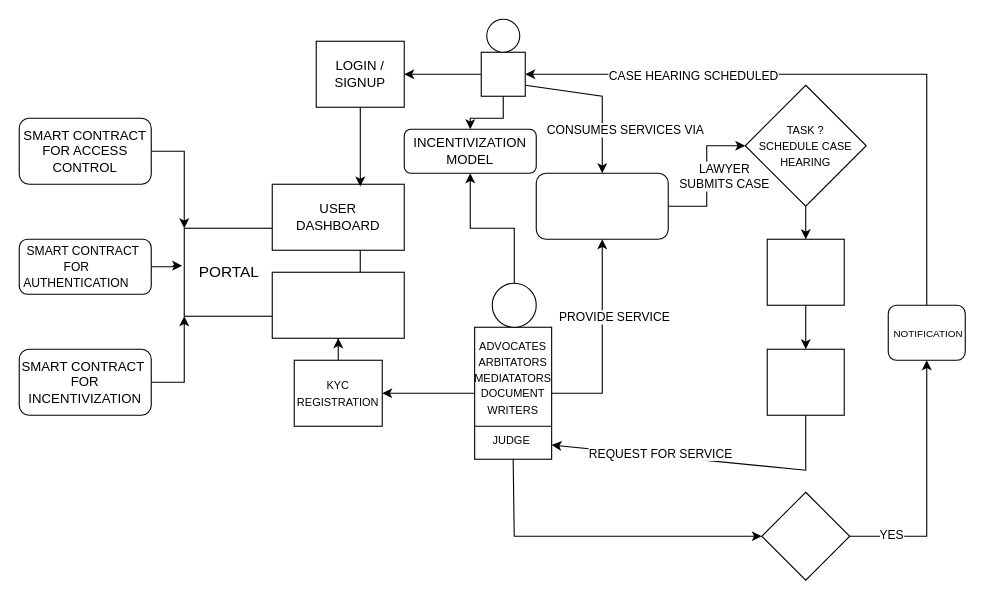
Some shapes in this 985 by 600 pixel diagram are drawn without their labels. Here are the shapes that lost their labels. From the top down, the centre of each, then its label:
the point at 502,73: USER
the point at 601,205: SERVICE PROVIDER PORTAL (LIST)
the point at 805,271: DCM PROCESS
the point at 337,304: SERVICE PROVIDER DASHBOARD
the point at 805,381: MATCH SUCCESS
the point at 805,535: IF REQUEST ACCEPTED
